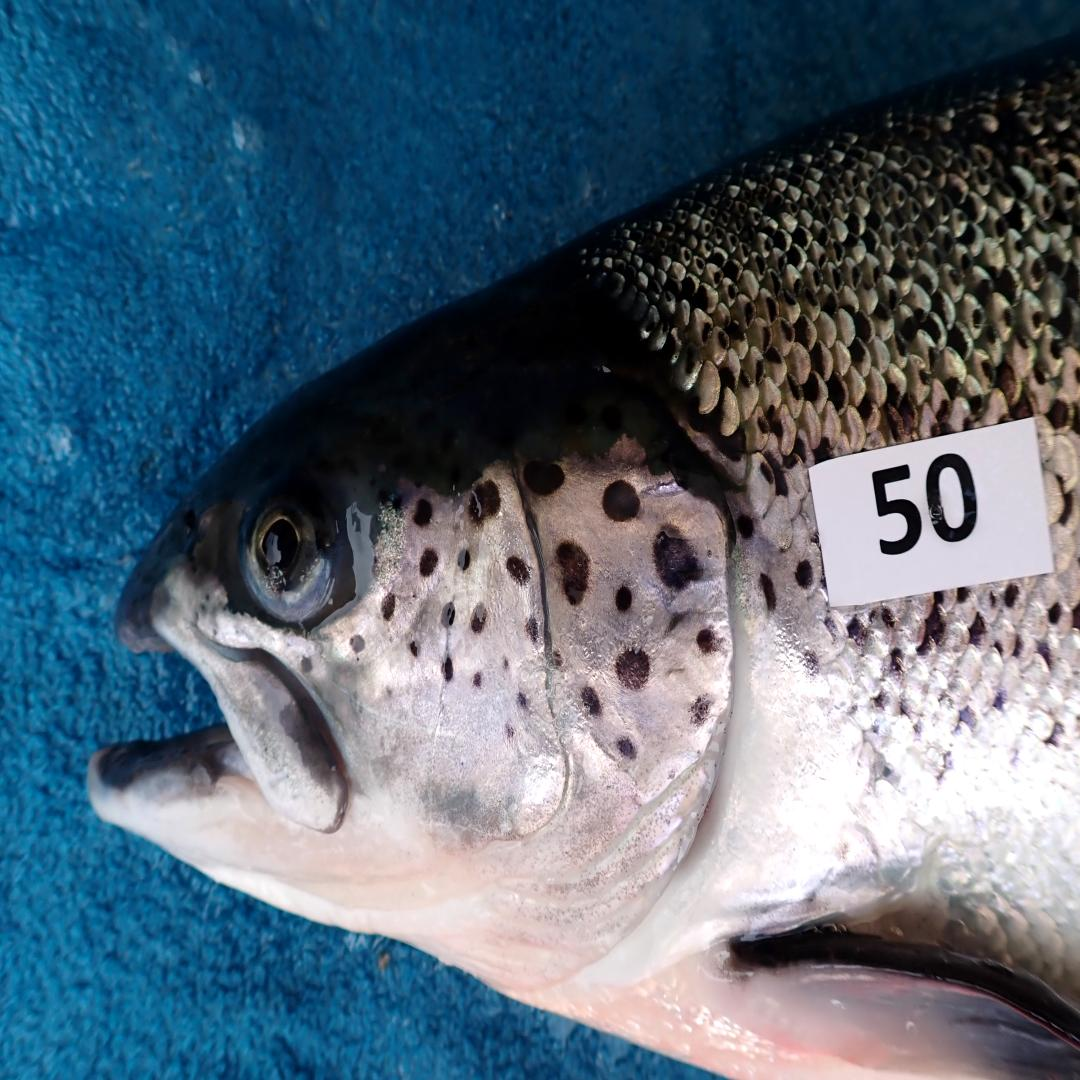roi: (343, 437, 740, 1002)
